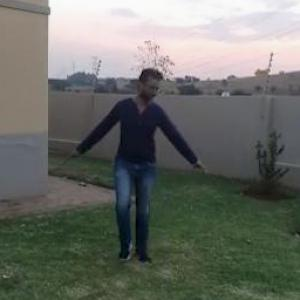land: (62, 69, 213, 272)
